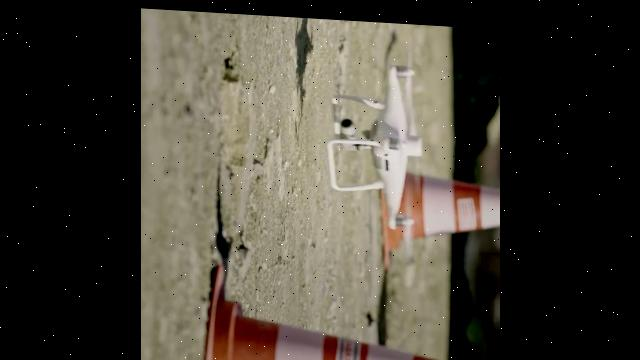drone: (324, 38, 424, 239)
